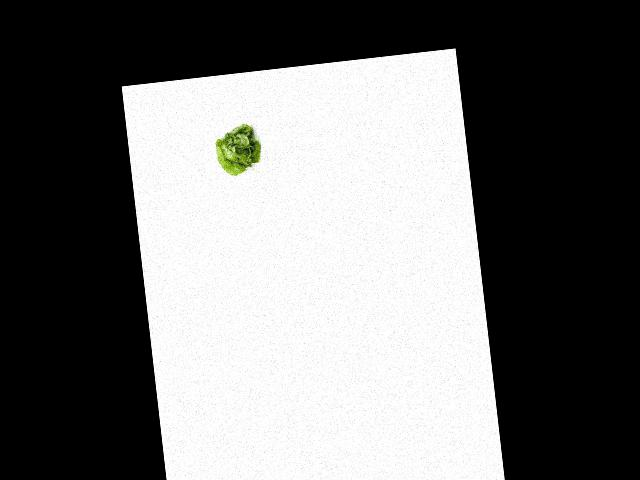lettuce: (209, 120, 266, 178)
